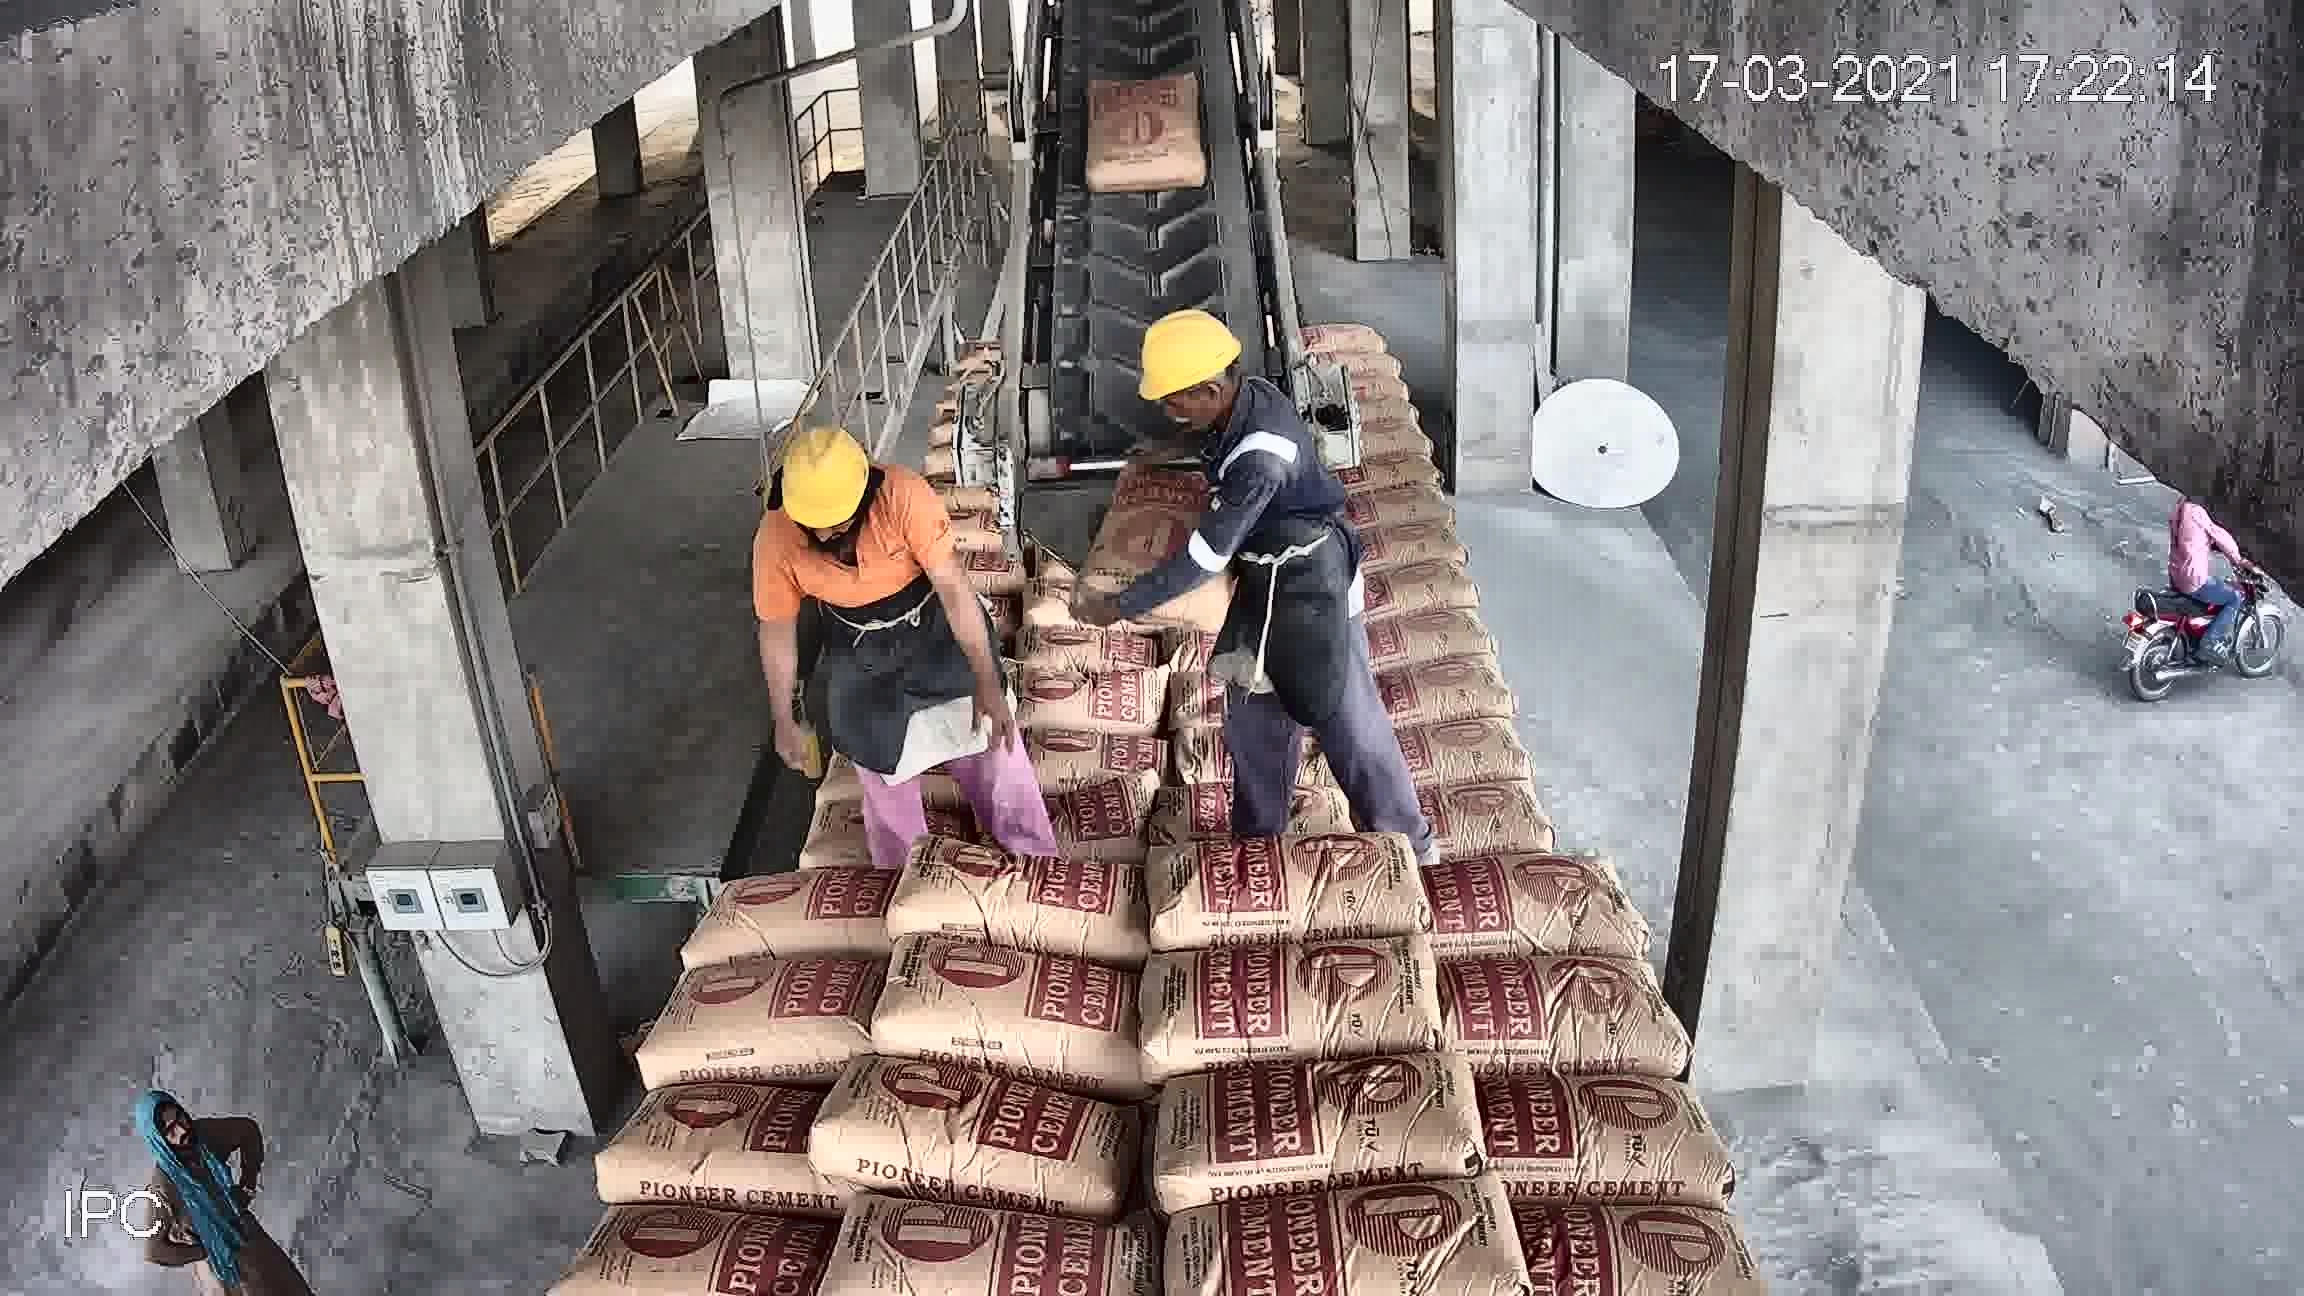bag: (1098, 438, 1212, 590), (1095, 62, 1220, 188)
bag_h: (1157, 1043, 1456, 1211), (862, 942, 1161, 1086), (1182, 1173, 1529, 1296), (824, 1060, 1116, 1201), (1160, 937, 1419, 1078), (1139, 836, 1424, 954), (642, 953, 867, 1097), (1427, 940, 1665, 1070), (1465, 1067, 1711, 1192), (896, 855, 1157, 970), (597, 1071, 812, 1203), (805, 1214, 1157, 1293), (1150, 720, 1389, 823), (1554, 1184, 1764, 1296), (908, 761, 1127, 867), (938, 669, 1152, 772), (677, 875, 885, 980), (571, 1211, 836, 1290), (1416, 847, 1649, 935), (1412, 753, 1575, 867), (744, 704, 919, 794), (1362, 695, 1556, 769), (726, 790, 900, 870), (1328, 604, 1510, 665), (1021, 555, 1144, 642), (1347, 639, 1518, 696), (1305, 527, 1472, 582), (1313, 470, 1454, 533), (1332, 573, 1491, 614), (1040, 627, 1139, 684), (1324, 411, 1427, 456), (1313, 453, 1438, 489)
belt: (1033, 41, 1275, 503)
